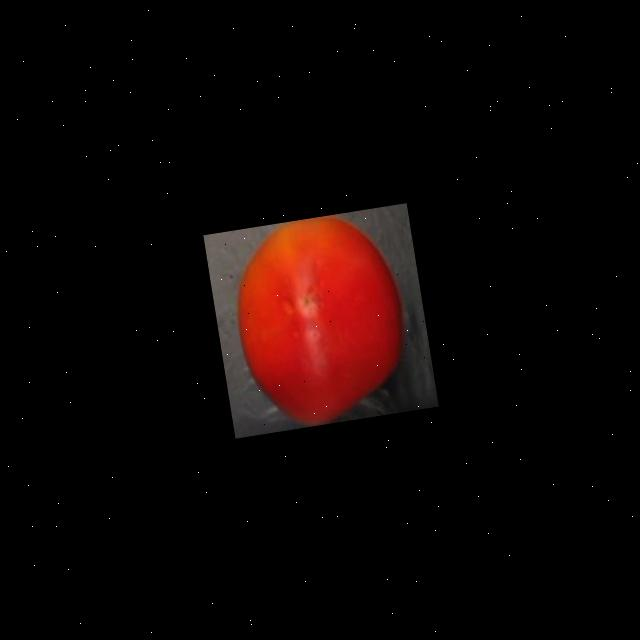tomato: (218, 204, 421, 434)
